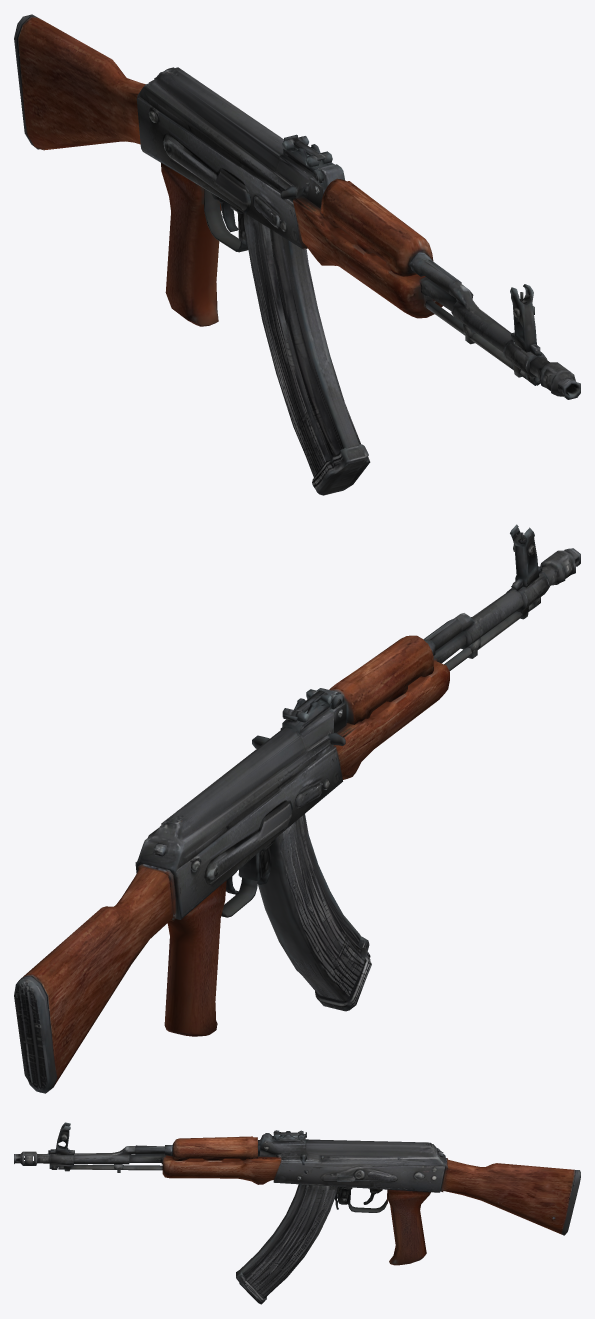
3 renders of one model, top to bottom at view 1: azimuth 30°, elevation 25°; view 2: azimuth 150°, elevation 25°; view 3: azimuth 270°, elevation 25°, orthographic. The views are drawn at different scales.
Visible parts, largest first — view 1: tripo_node_919c11f5-b6fe-4c56-8c8c-89233763ab74; view 2: tripo_node_919c11f5-b6fe-4c56-8c8c-89233763ab74; view 3: tripo_node_919c11f5-b6fe-4c56-8c8c-89233763ab74.
Part boxes in pixels (x1=…): tripo_node_919c11f5-b6fe-4c56-8c8c-89233763ab74: x1=14, y1=14, x2=580, y2=495; tripo_node_919c11f5-b6fe-4c56-8c8c-89233763ab74: x1=14, y1=524, x2=580, y2=1093; tripo_node_919c11f5-b6fe-4c56-8c8c-89233763ab74: x1=14, y1=1122, x2=580, y2=1304.
Bounding box in the file's own units: 0.1873 × 0.85 × 2.45.
1 material, 1 textured.
